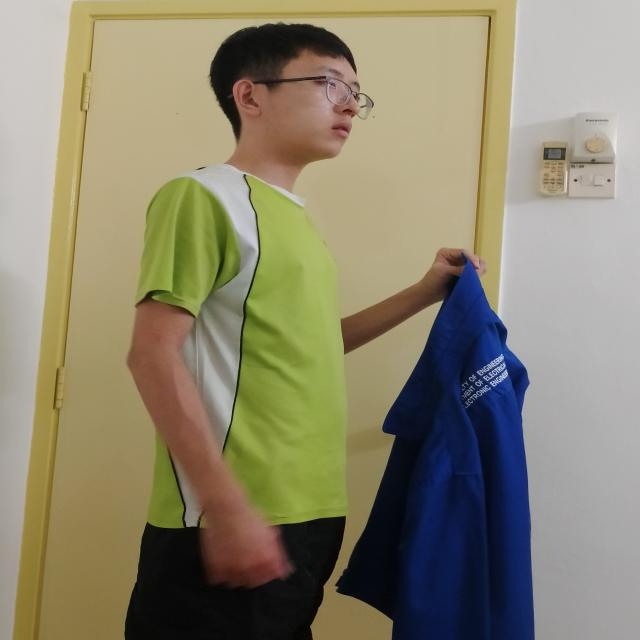person_without_labcoat: (124, 24, 534, 640)
